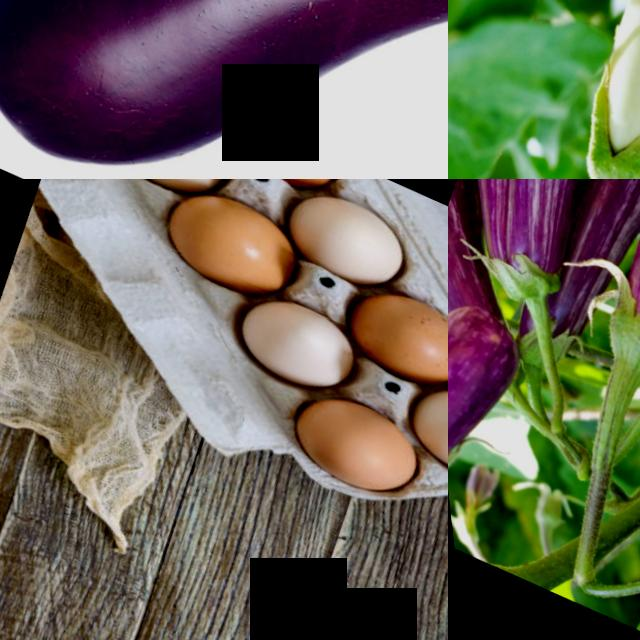egg_: (271, 380, 429, 509), (151, 179, 308, 305), (271, 179, 419, 295), (221, 286, 361, 400), (331, 275, 448, 396), (393, 376, 448, 492), (92, 179, 238, 205)
eggplant: (0, 0, 448, 179), (448, 179, 640, 316), (448, 288, 539, 531), (524, 0, 640, 179), (551, 179, 640, 391)
